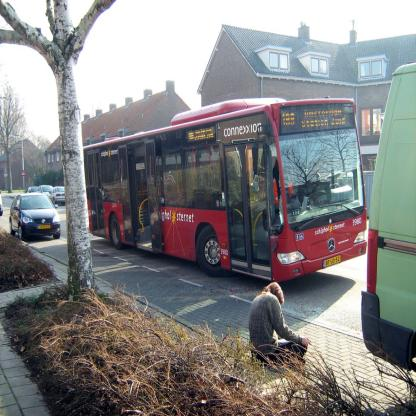Car: (8, 192, 60, 243), (49, 188, 67, 206), (37, 185, 55, 197), (27, 185, 39, 194)
